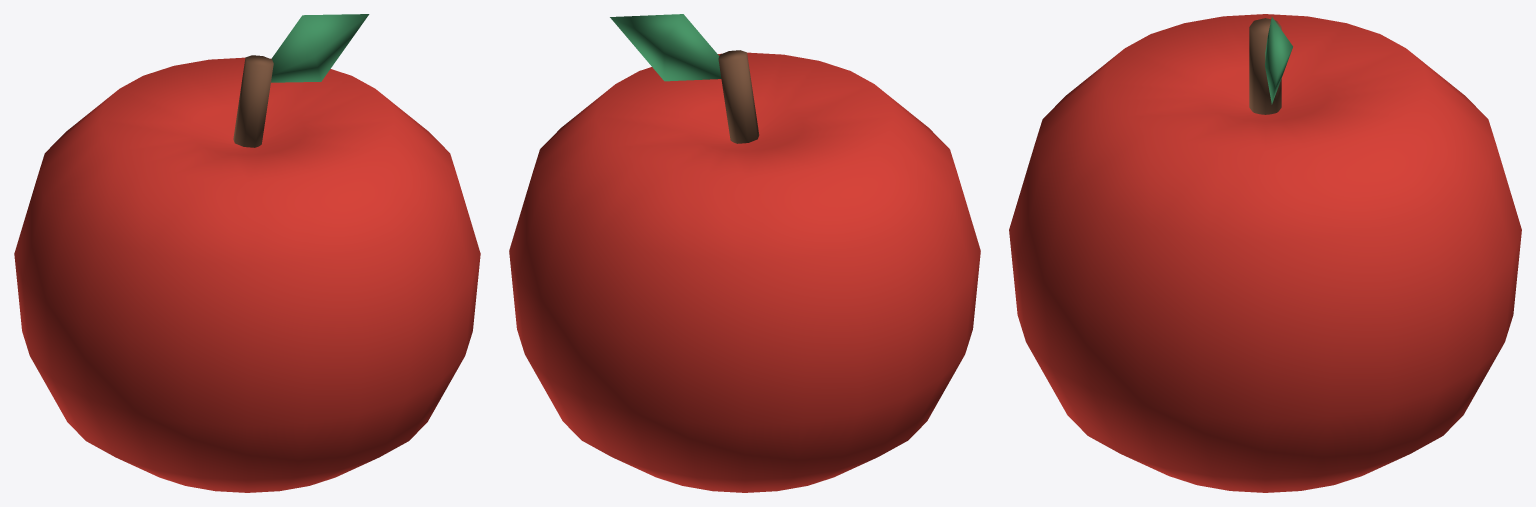
File: apple.glb
3 views of the same model, side by side, from view 1: azimuth 30°, elevation 25°; view 2: azimuth 150°, elevation 25°; view 3: azimuth 270°, elevation 25° (orthographic). The views are drawn at different scales.
Visible parts, largest first — view 1: fruit, leaf, stem; view 2: fruit, leaf, stem; view 3: fruit, stem, leaf.
Part boxes in pixels (x1,y1,x2,y2): fruit: (14, 57, 480, 492); leaf: (271, 14, 369, 82); stem: (233, 55, 273, 147); fruit: (509, 52, 980, 492); leaf: (610, 14, 721, 81); stem: (718, 50, 759, 143); fruit: (1009, 14, 1521, 492); stem: (1249, 18, 1281, 114); leaf: (1265, 17, 1292, 104).
Bounding box in the file's own units: 0.6 × 0.6056 × 0.6.
